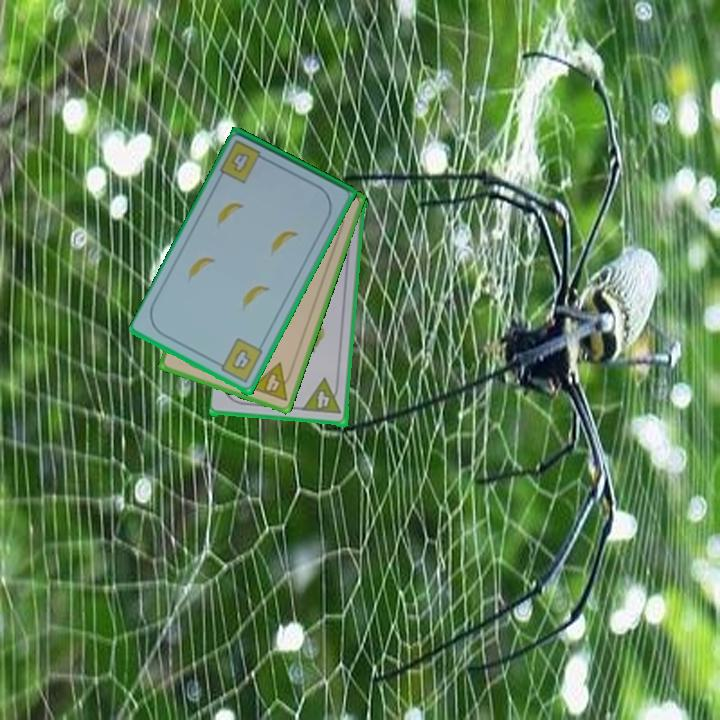4b: (212, 335, 266, 386), (217, 137, 272, 186)
4p: (247, 359, 297, 404), (300, 376, 333, 412)
